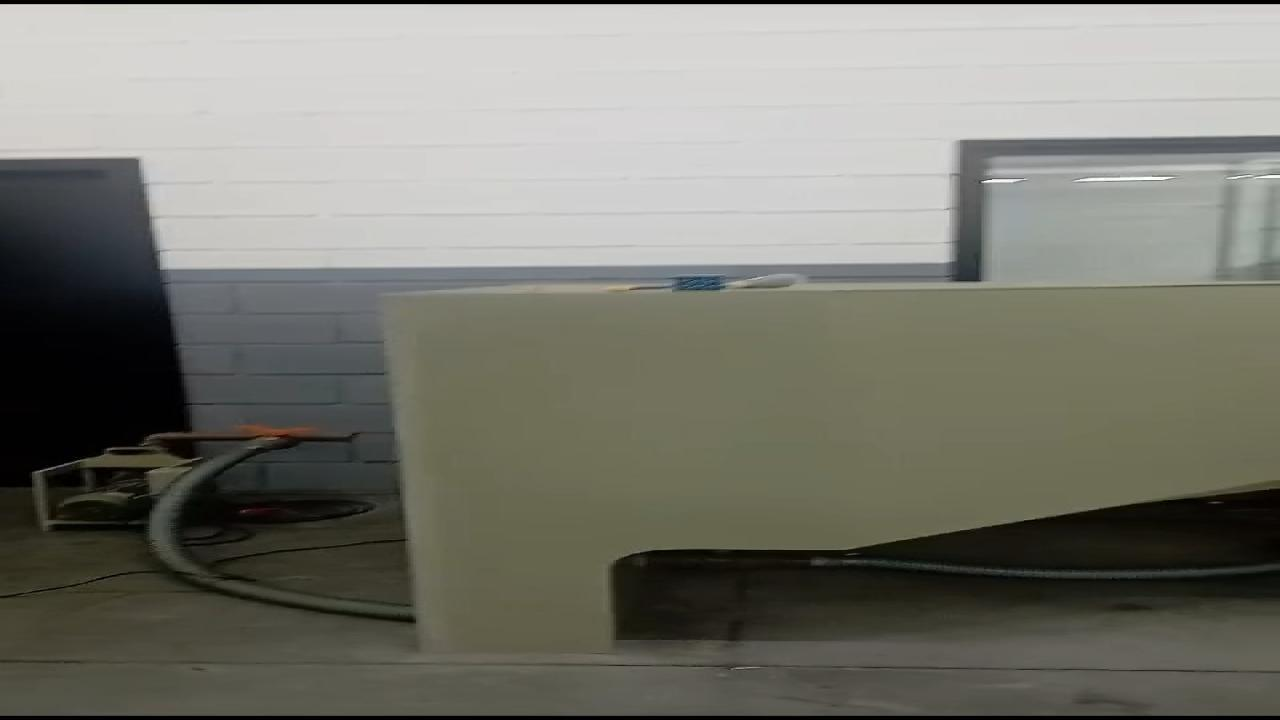Cube: (671, 275, 724, 291)
